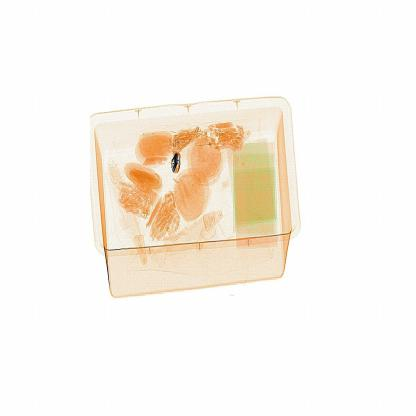wrench: (162, 144, 190, 178)
